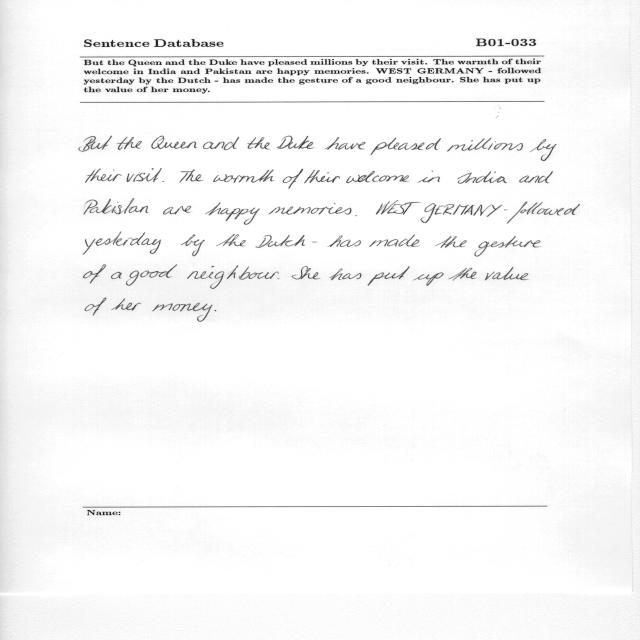word: (187, 266, 279, 289), (83, 232, 161, 255), (421, 203, 502, 223), (507, 202, 580, 224), (475, 236, 541, 257), (205, 202, 260, 225), (370, 138, 441, 155), (152, 303, 213, 322), (84, 198, 149, 215), (126, 265, 177, 286), (447, 138, 523, 152), (269, 203, 352, 215), (213, 169, 274, 183), (368, 266, 410, 286), (346, 171, 409, 183), (369, 234, 420, 247), (376, 200, 420, 215), (458, 171, 508, 184), (255, 235, 305, 248), (151, 136, 197, 149), (531, 139, 557, 161), (485, 267, 528, 280), (86, 168, 122, 183), (181, 235, 205, 257), (325, 137, 365, 150), (79, 136, 112, 151), (127, 168, 162, 182), (277, 136, 314, 149), (203, 137, 239, 150), (304, 170, 340, 183), (83, 265, 106, 284), (519, 171, 553, 183), (327, 235, 361, 247), (414, 272, 443, 286), (283, 169, 303, 189), (434, 236, 467, 248), (85, 298, 106, 316), (448, 268, 477, 281), (292, 266, 320, 279), (216, 234, 246, 246), (111, 299, 141, 311), (330, 269, 362, 280), (117, 137, 142, 150), (180, 170, 204, 183), (248, 137, 270, 149), (418, 171, 440, 183), (163, 206, 191, 214), (111, 272, 122, 279), (312, 242, 317, 243), (504, 210, 507, 211), (163, 181, 165, 182), (355, 215, 357, 216), (278, 278, 280, 279), (215, 310, 217, 311)
